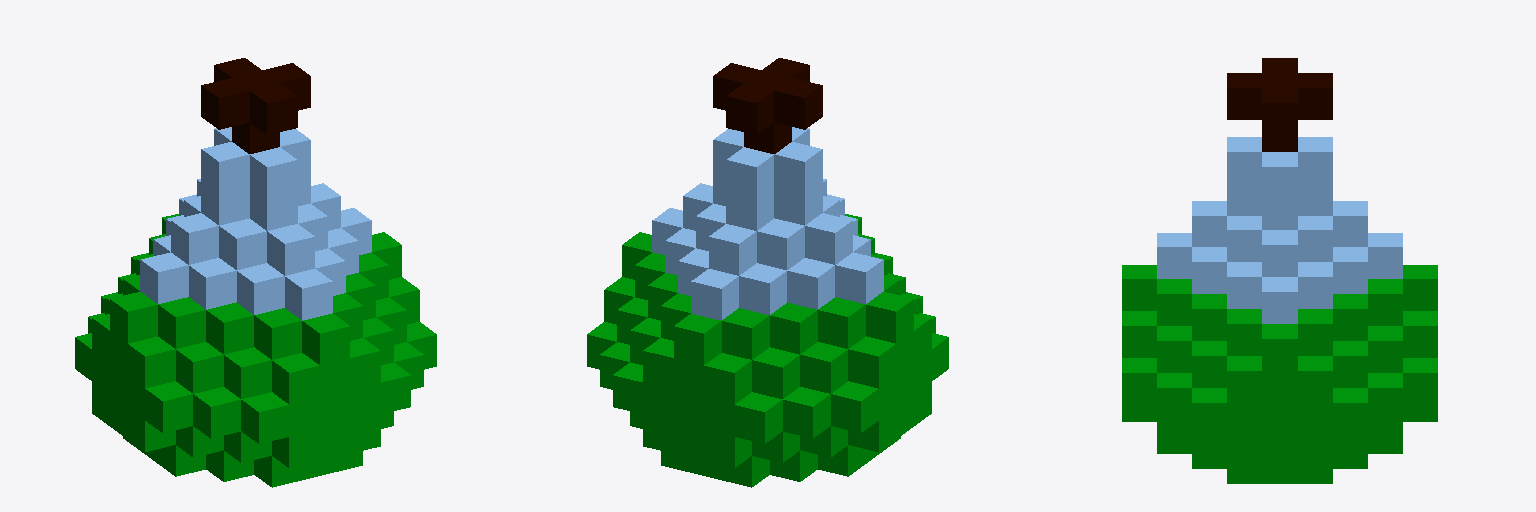
3 renders of one model, left to right at view 1: azimuth 30°, elevation 25°; view 2: azimuth 150°, elevation 25°; view 3: azimuth 270°, elevation 25°, orthographic.
Visible parts, largest first — view 1: WitchPotionNoMATGreen; view 2: WitchPotionNoMATGreen; view 3: WitchPotionNoMATGreen.
Part boxes in pixels (x1,y1,x2,y2): WitchPotionNoMATGreen: (75, 58, 436, 487); WitchPotionNoMATGreen: (587, 58, 948, 487); WitchPotionNoMATGreen: (1122, 58, 1437, 483).
Bounding box in the file's own units: 9 × 11 × 9.
Materials: 1 (1 with a texture image).